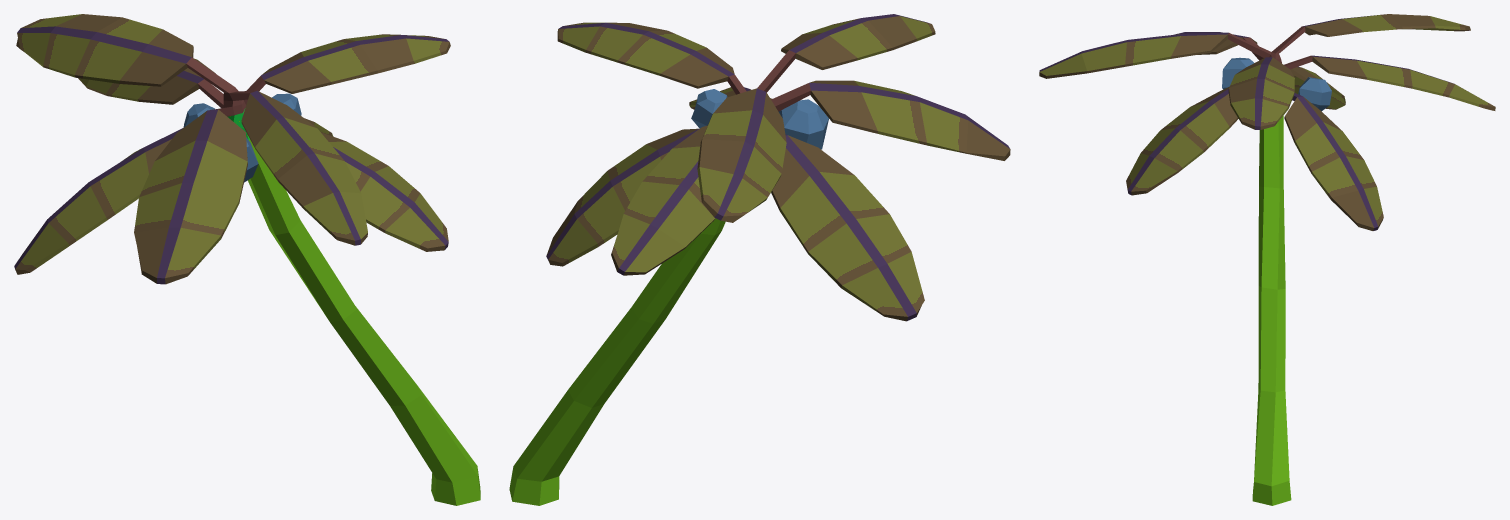
The model's file is CoconutPalm03.fbx.
The picture shows the model from 3 angles, left to right: view 1: azimuth 30°, elevation 25°; view 2: azimuth 150°, elevation 25°; view 3: azimuth 270°, elevation 25°; orthographic projection. The views are drawn at different scales.
Parts seen in each view (by area): view 1: PalmTopMidPoly.002; view 2: PalmTopMidPoly.002; view 3: PalmTopMidPoly.002.
Boxes of the visible parts, <box> form: PalmTopMidPoly.002: <box>14,14,480,505</box>; PalmTopMidPoly.002: <box>509,14,1010,505</box>; PalmTopMidPoly.002: <box>1039,14,1495,505</box>.
Bounding box in the file's own units: 105 × 111 × 122.
